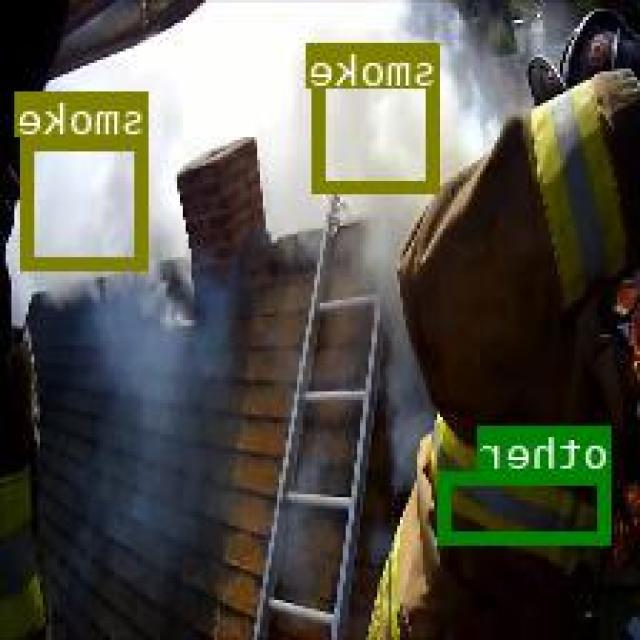other: (442, 470, 614, 543)
smoke: (315, 41, 441, 190), (25, 136, 151, 267)
